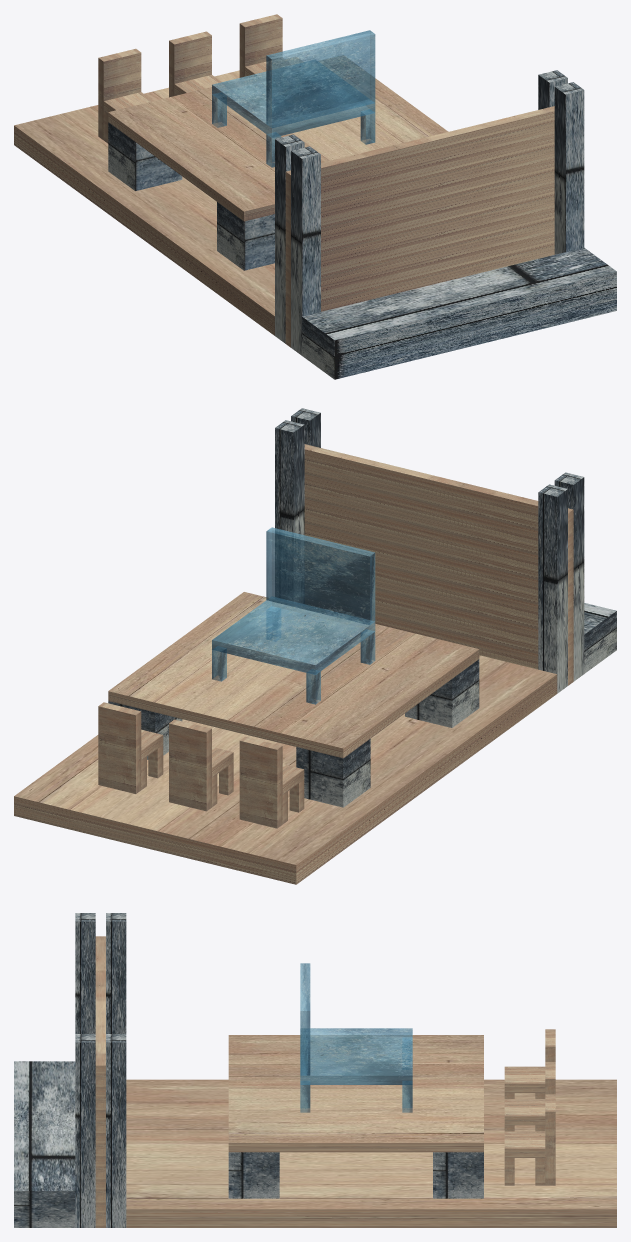
The model's file is Wall.glb.
3 views of the same model, one above another, from view 1: azimuth 30°, elevation 25°; view 2: azimuth 150°, elevation 25°; view 3: azimuth 270°, elevation 25° (orthographic). The views are drawn at different scales.
Visible parts, largest first — view 1: Cube, Cube.022, Cube.017, Cube.027, Cube.028, Cube.011, Cube.005, Cube.010, Cube.009, Cube.008, Cube.006, Cube.007 (+12 smaller); view 2: Cube.017, Cube.022, Cube.027, Cube.028, Cube.011, Cube.010, Cube.009, Cube.008, Cube.004, Cube.005, Cube.001, Cube.002 (+10 smaller); view 3: Cube.017, Cube.022, Cube, Cube.028, Cube.002, Cube.007, Cube.001, Cube.006, Cube.020, Cube.019, Cube.011, Cube.027 (+4 smaller).
Part boxes in pixels (x1,y1,x2,y2): Cube: [302, 247, 616, 379]; Cube.022: [108, 55, 448, 221]; Cube.017: [14, 57, 302, 335]; Cube.027: [266, 30, 375, 128]; Cube.028: [212, 60, 375, 137]; Cube.011: [285, 106, 554, 199]; Cube.005: [285, 210, 554, 298]; Cube.010: [285, 136, 554, 224]; Cube.009: [285, 160, 554, 248]; Cube.008: [285, 185, 554, 273]; Cube.006: [291, 146, 320, 355]; Cube.007: [554, 82, 584, 254]; Cube.017: [14, 655, 557, 884]; Cube.022: [108, 592, 479, 758]; Cube.027: [266, 527, 375, 625]; Cube.028: [212, 596, 375, 674]; Cube.011: [304, 444, 573, 537]; Cube.010: [304, 474, 573, 562]; Cube.009: [304, 498, 573, 587]; Cube.008: [304, 523, 573, 611]; Cube.004: [305, 573, 573, 660]; Cube.005: [305, 548, 573, 636]; Cube.001: [538, 484, 567, 693]; Cube.002: [275, 420, 304, 603]; Cube.017: [126, 1079, 616, 1227]; Cube.022: [228, 1035, 483, 1152]; Cube: [14, 1061, 75, 1227]; Cube.028: [300, 1028, 412, 1084]; Cube.002: [106, 1034, 126, 1227]; Cube.007: [75, 1034, 95, 1227]; Cube.001: [106, 913, 126, 1033]; Cube.006: [75, 913, 95, 1033]; Cube.020: [228, 1152, 279, 1198]; Cube.019: [433, 1152, 483, 1198]; Cube.011: [95, 936, 105, 1088]; Cube.027: [300, 963, 310, 1075].
Bounding box in the file's own units: 6 × 4 × 11.8.
Materials: 3 (3 with a texture image).
